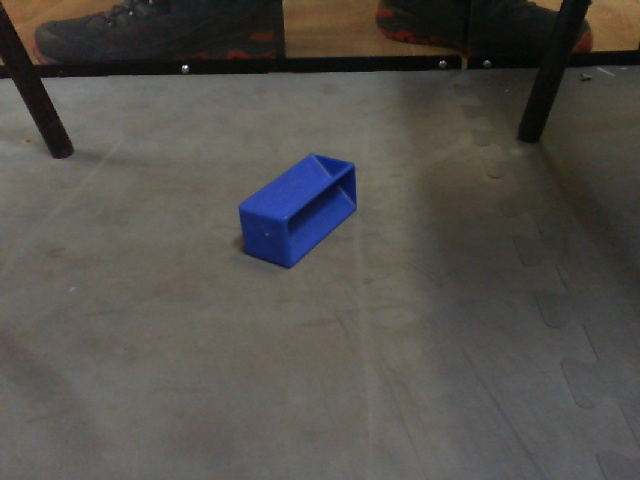BlueSample: (232, 151, 365, 273)
